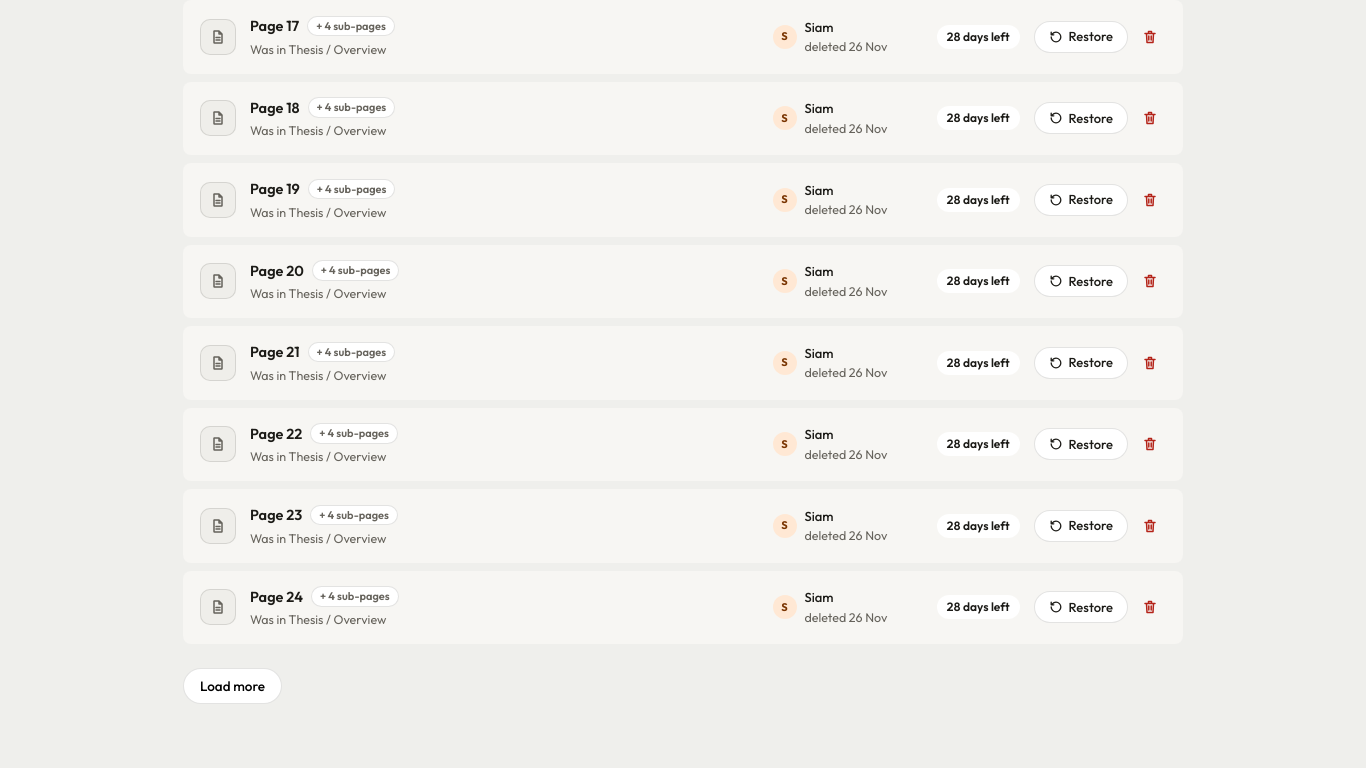
Test: trash list › filtersByTitleAndLoadsMoreAfter25
This screenshot has width=1366, height=768.
(page scrolled)
expect the text "Page 24" is shown: met, box [250,586,303,607]
Click the button "Load more".
click(232, 686)  # box [183,668,282,704]
(page scrolled)
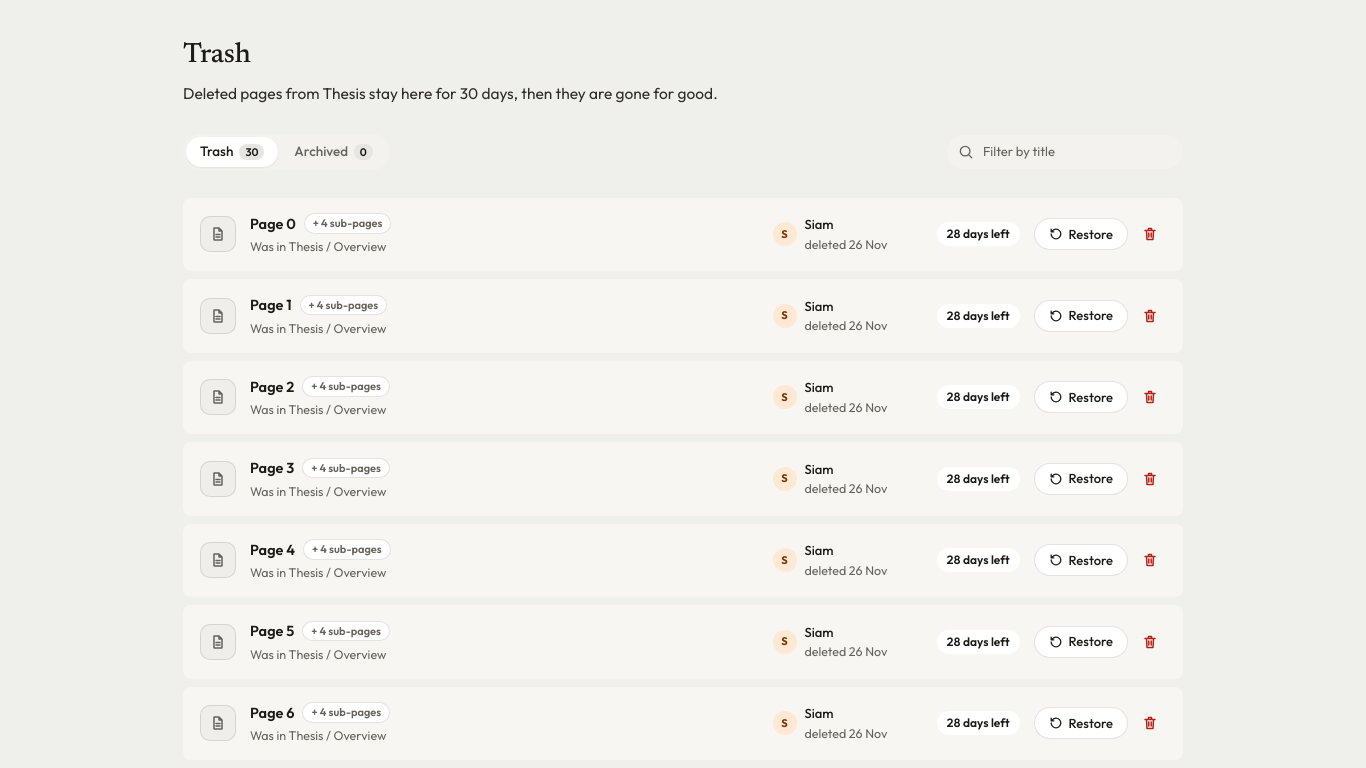
Type "page 1" into the search field labelled "Filter by title".
click(1076, 152); type("page 1")  # box [981,141,1171,162]
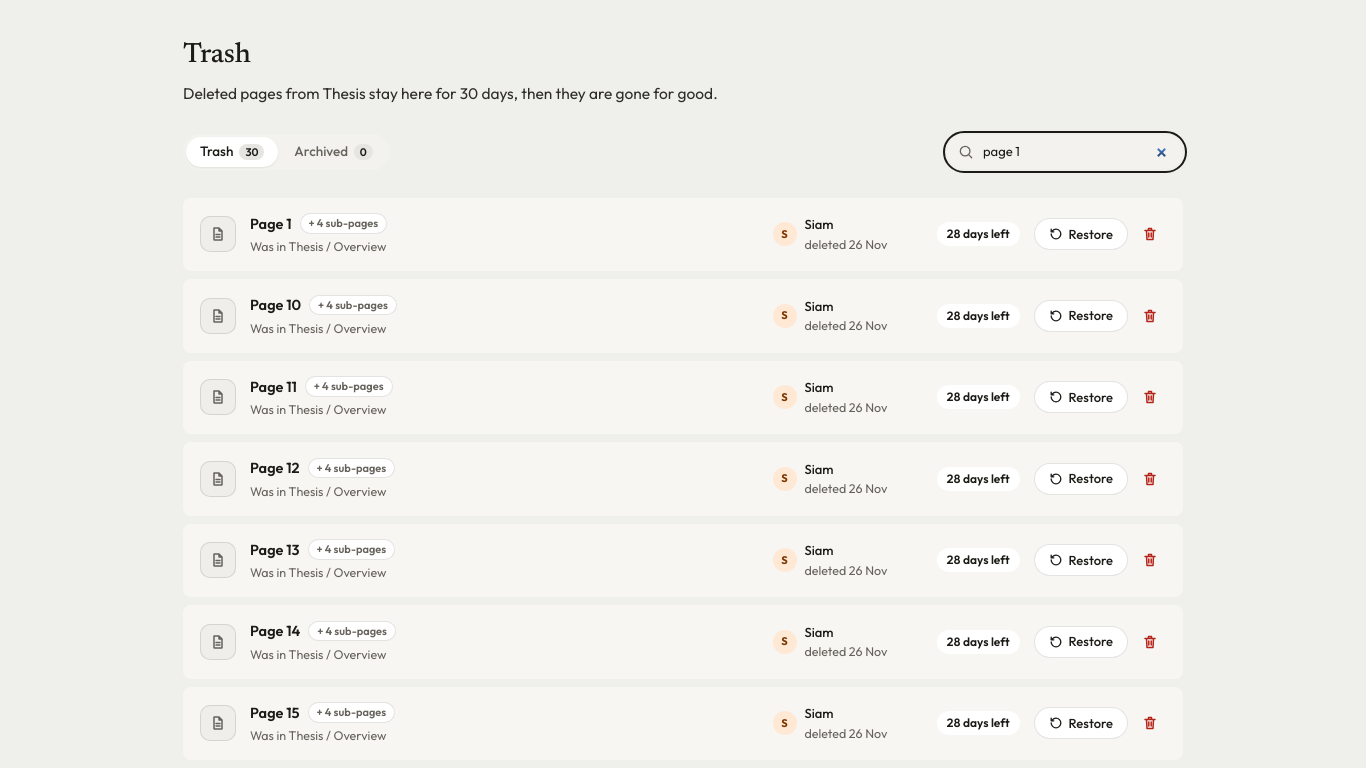
expect the text "Page 12" is shown: met, box [250,457,300,479]
expect the text "Page 2" is gone: met
